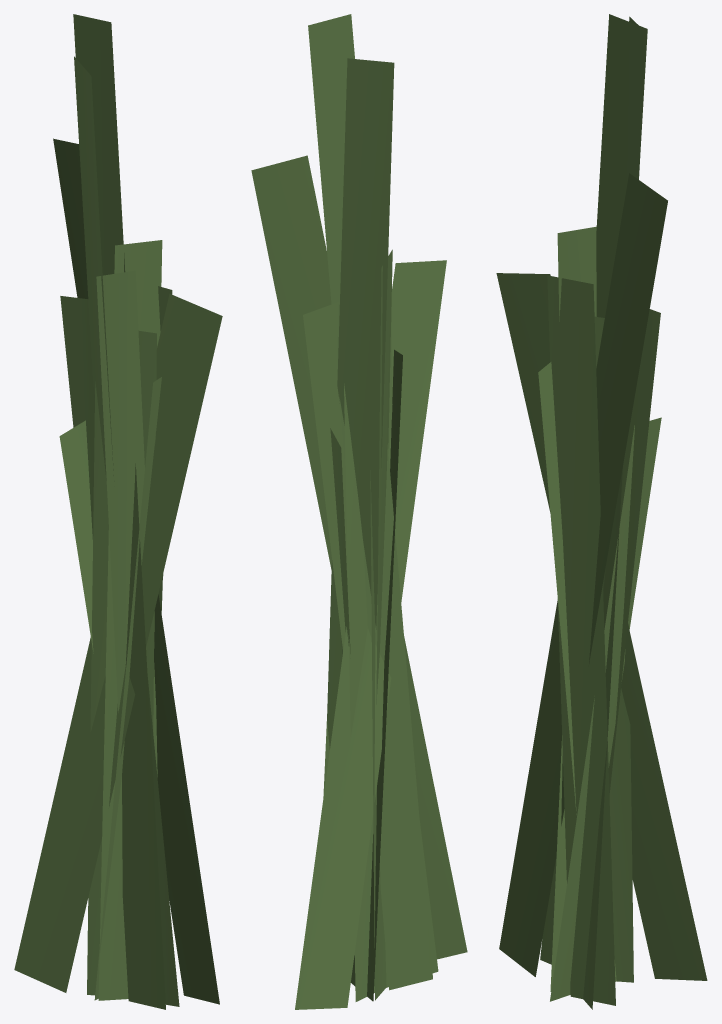
File: plant_grassclump_mid.glb
3 renders of one model, left to right at view 1: azimuth 90°, elevation 25°; view 2: azimuth 150°, elevation 25°; view 3: azimuth 270°, elevation 25°, orthographic.
Size of the model in its own units: 0.1331 by 0.9423 by 0.1842.
